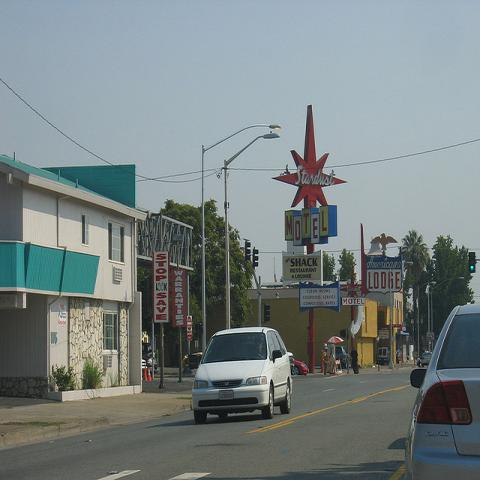car: (405, 301, 479, 475), (192, 327, 290, 423), (422, 352, 432, 368)
